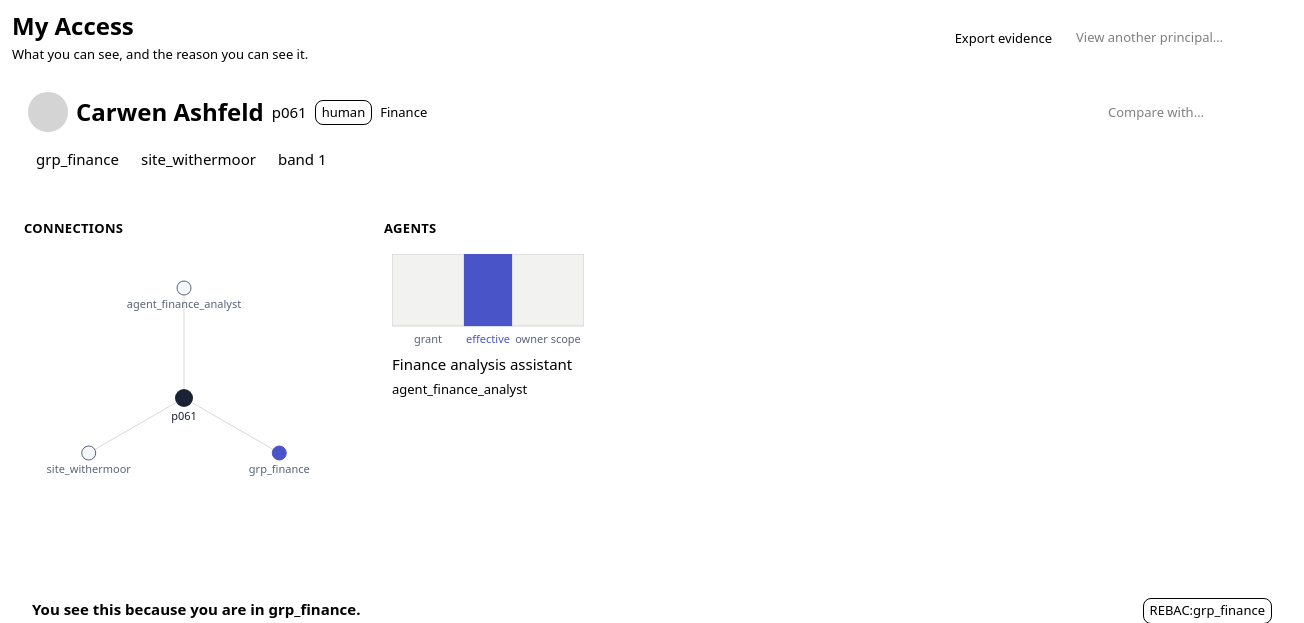
U-12: the audited-view line states crossing plainly › renders for cross_lens=true, absent for false, with no dismissal
Expected: the element with test id "masthead" is shown, [12, 76, 1292, 191]
// Cross to p060: the quiet line appears, neutral, undismissable.
In the field with test id "subject-search": (1180, 38) [1068, 24, 1292, 52], type "p060"
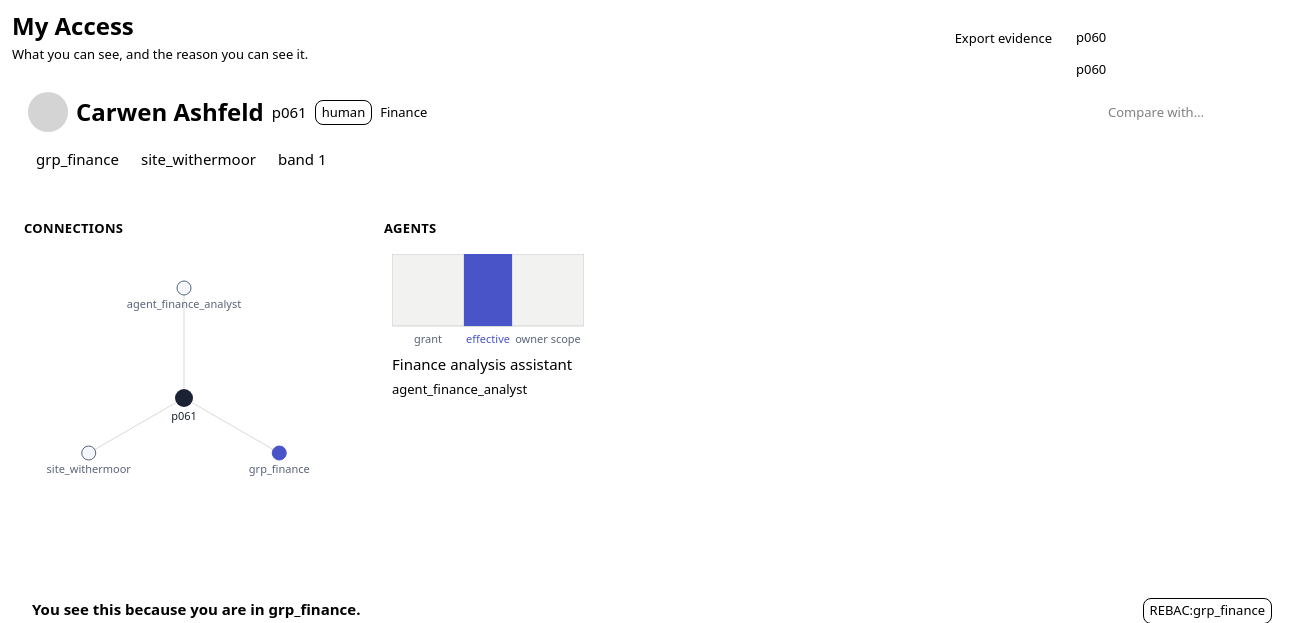
Click the button with test id "subject-row": click(1180, 70) [1068, 56, 1292, 83]
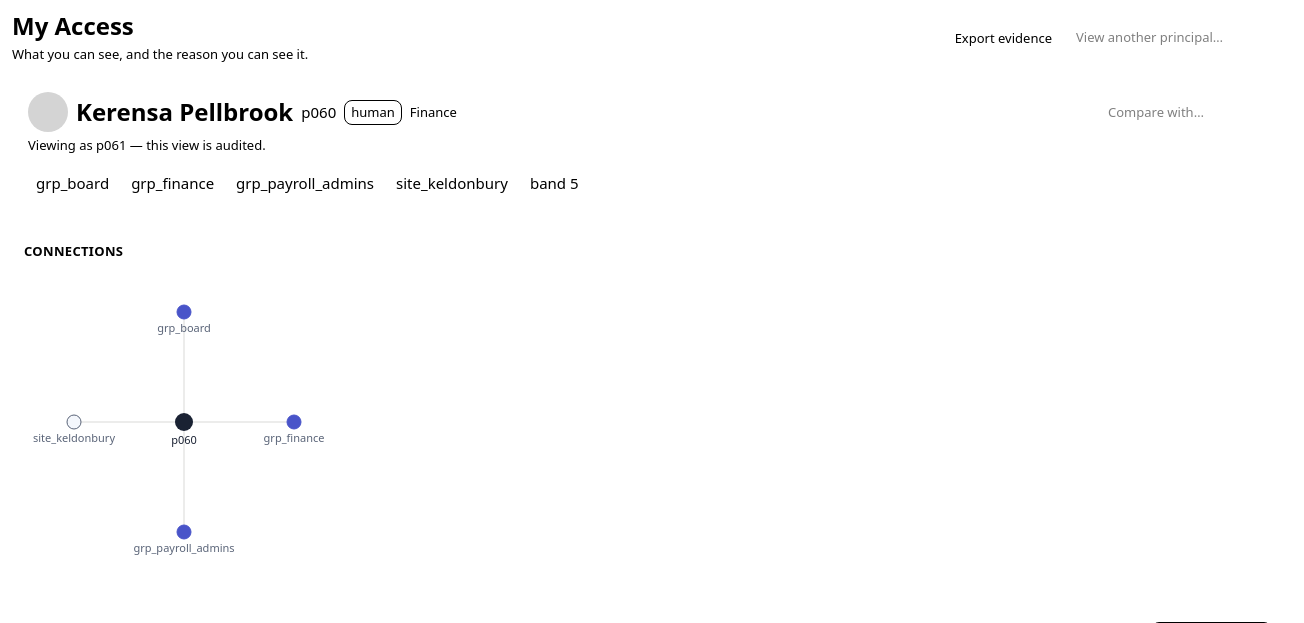
Expected: the text with test id "cross-lens-line" reads "Viewing as p061 — this view is audited.", [28, 136, 266, 154]
